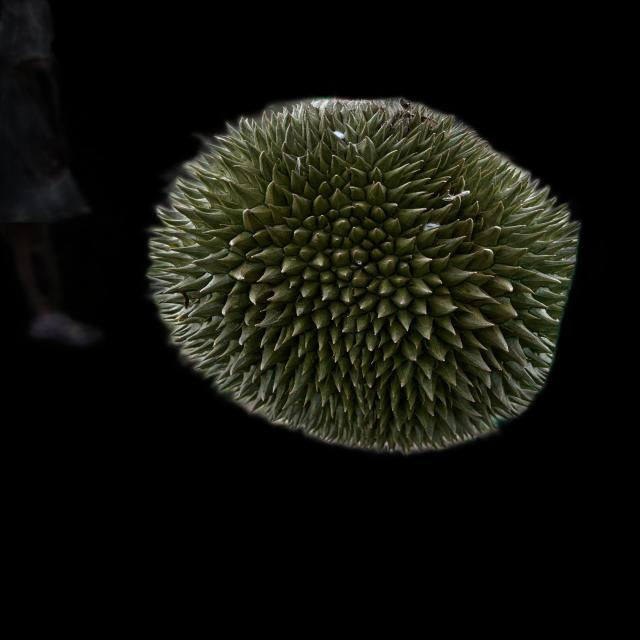immature: (153, 97, 585, 457)
